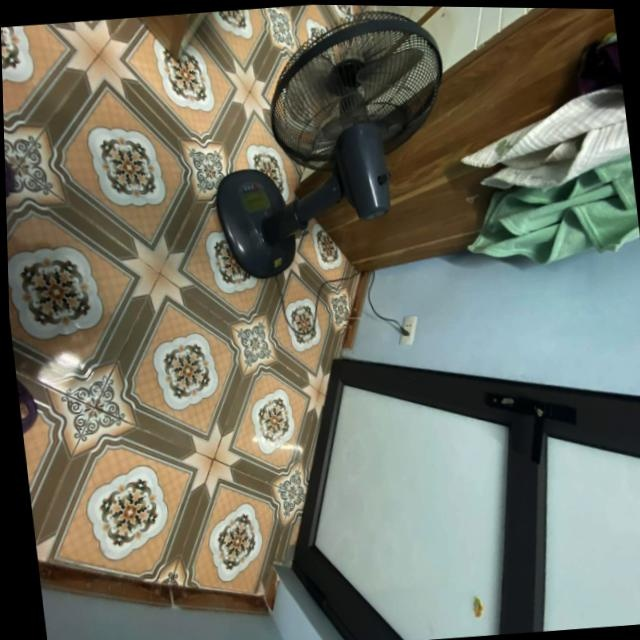outlet: (394, 314, 420, 346)
